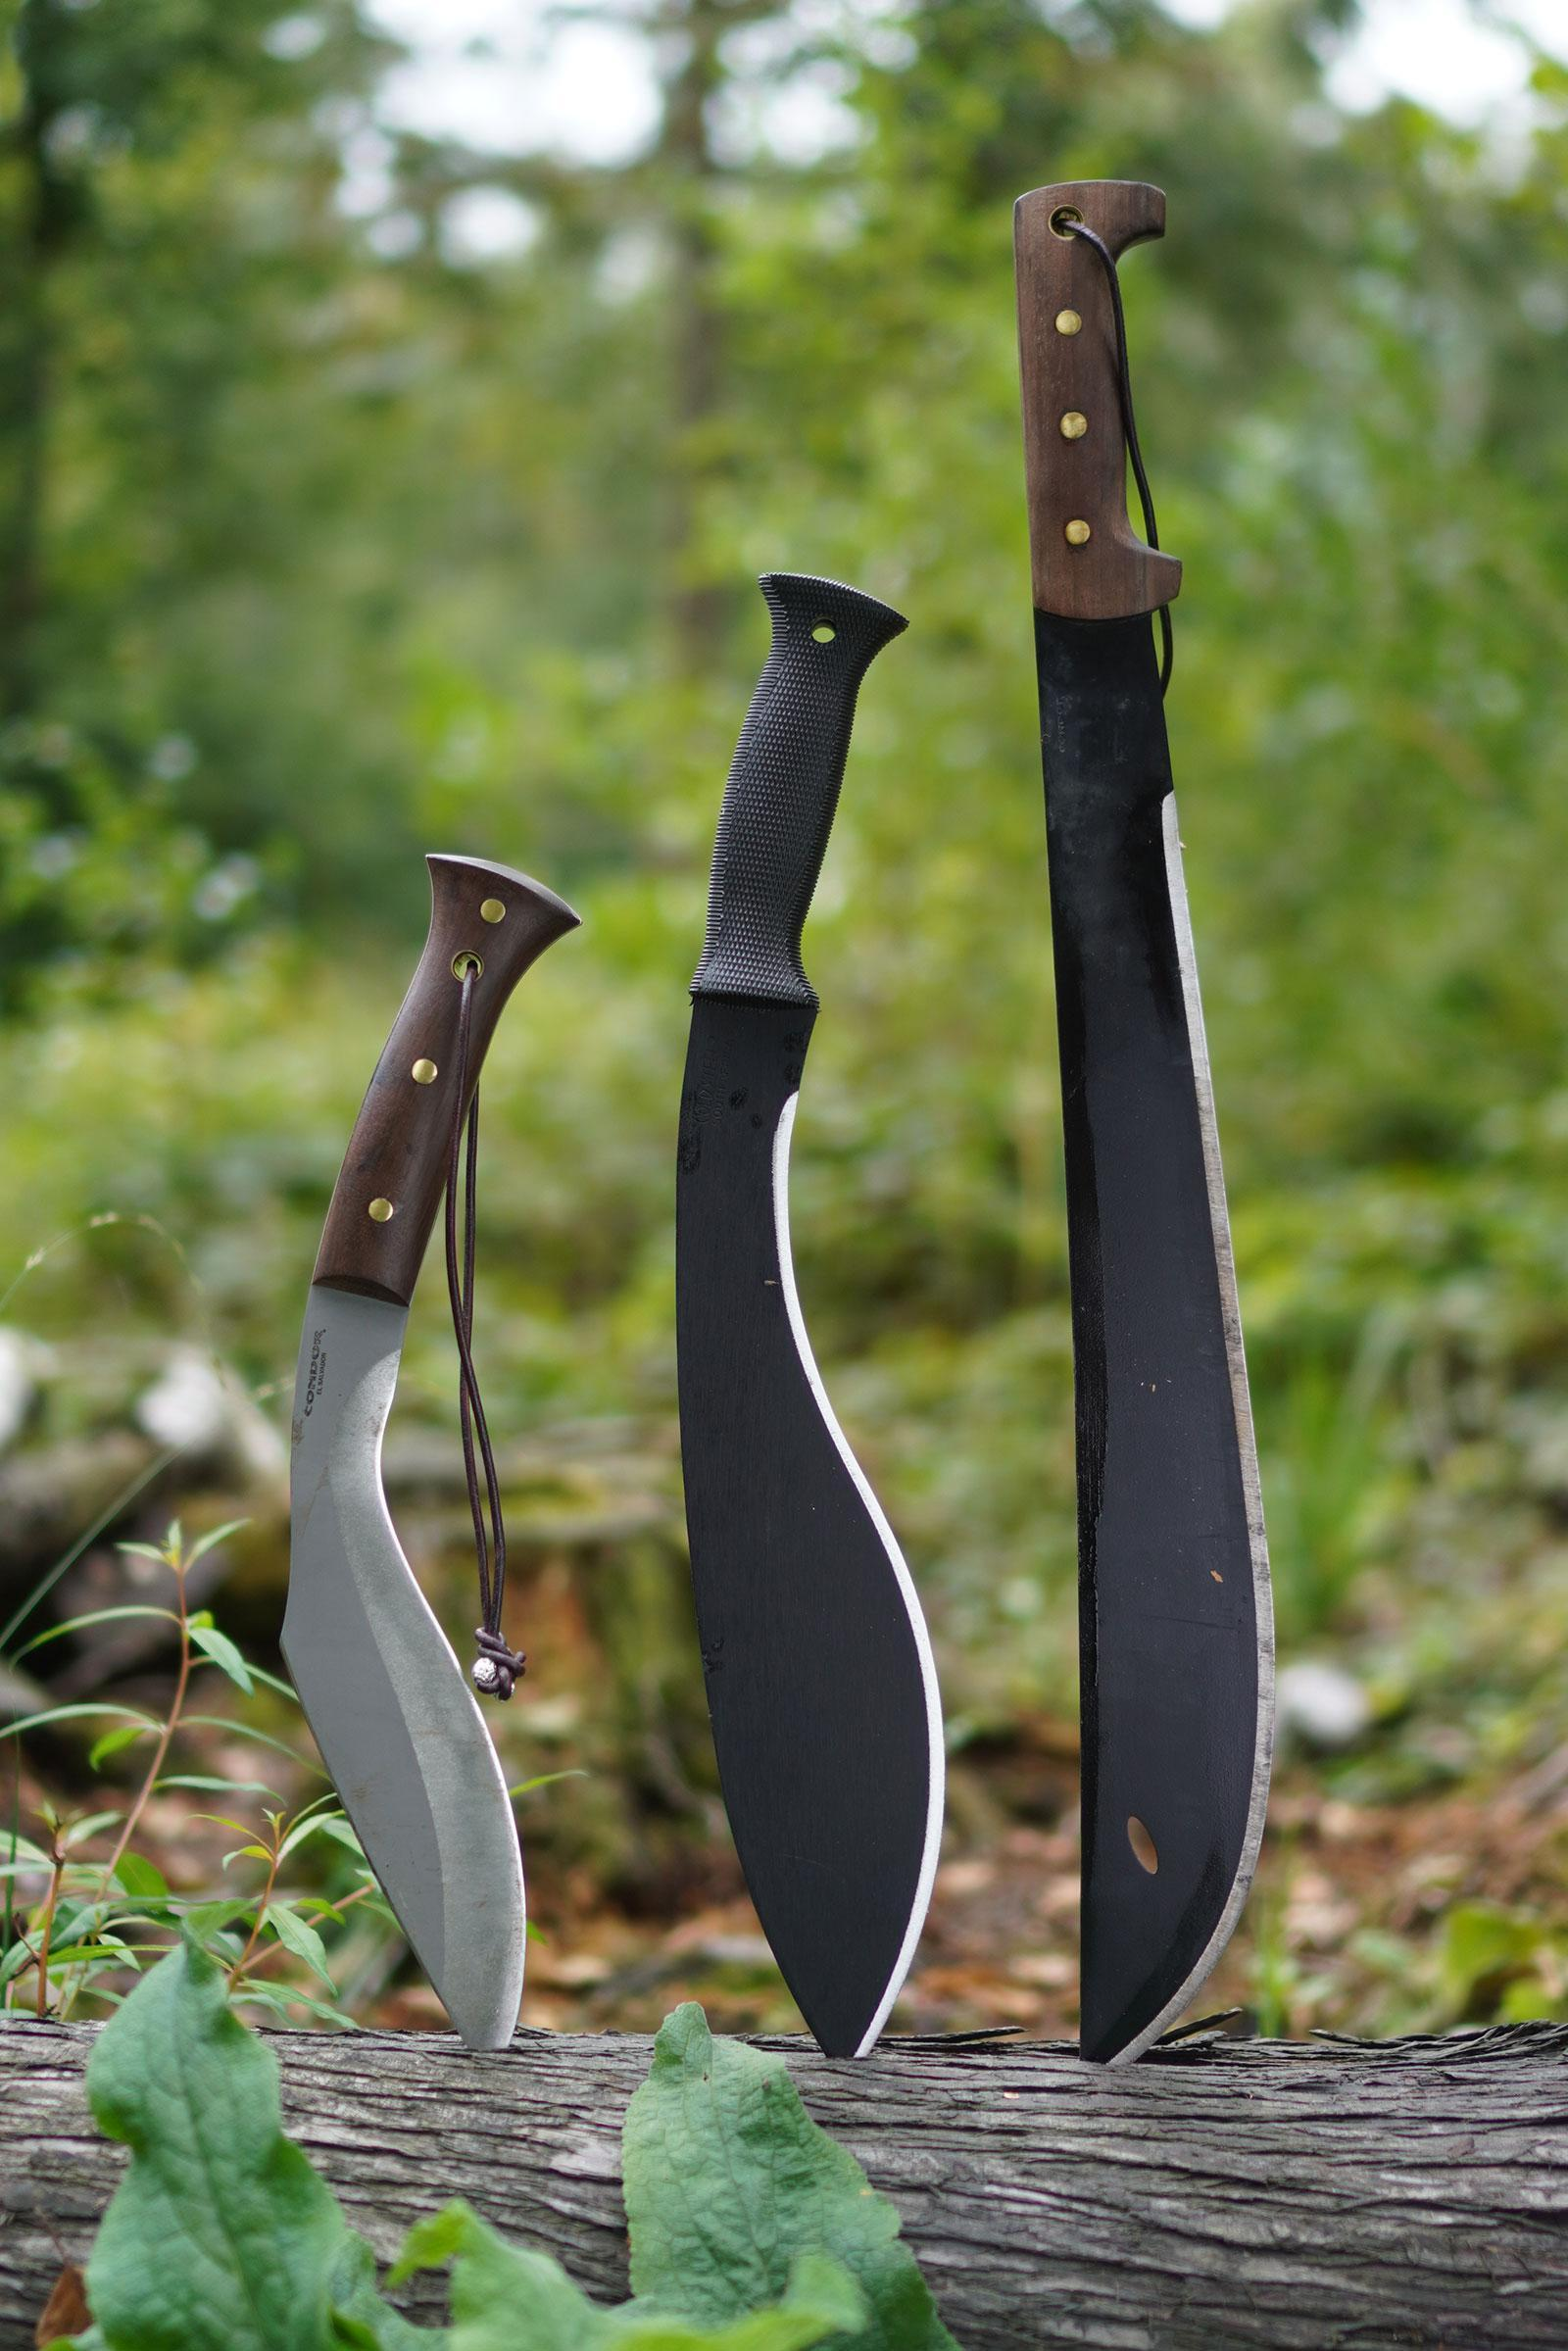facao: (1013, 182, 1274, 2062), (675, 574, 943, 2057), (282, 855, 577, 2047)
